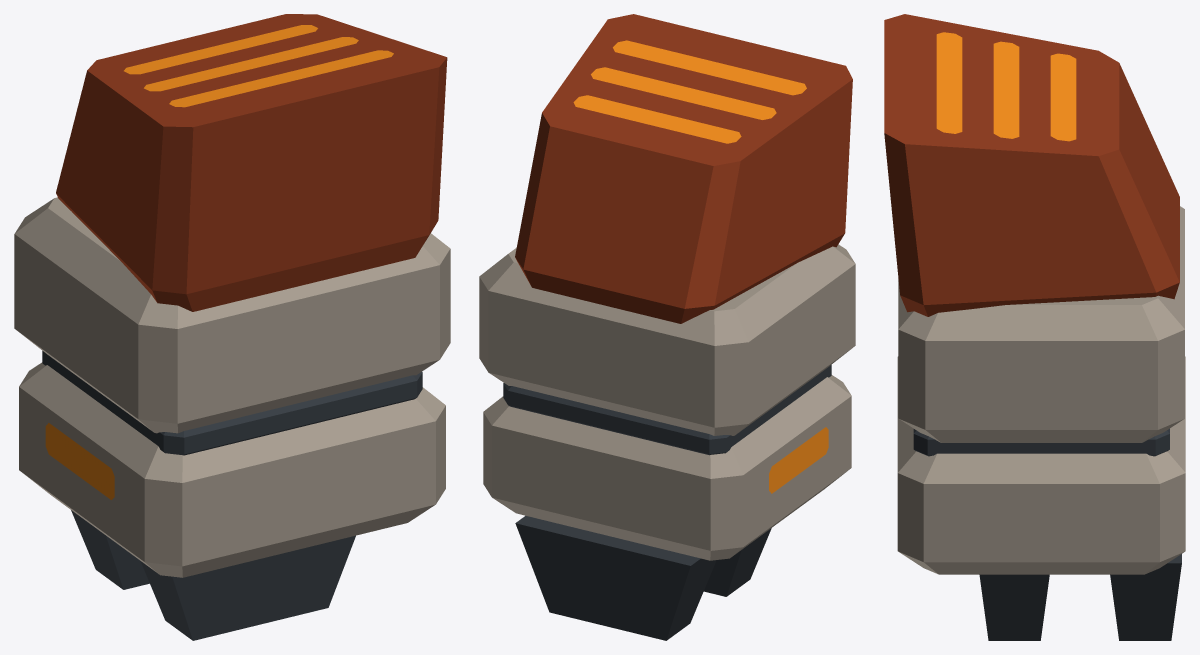
The model's file is push.obj.
The picture shows the model from 3 angles, left to right: view 1: azimuth 30°, elevation 25°; view 2: azimuth 150°, elevation 25°; view 3: azimuth 270°, elevation 25°; orthographic projection. The views are drawn at different scales.
Parts seen in each view (by area): view 1: push; view 2: push; view 3: push.
Boxes of the visible parts, <box> form: push: <box>14,14,450,640</box>; push: <box>479,14,855,640</box>; push: <box>884,14,1185,640</box>.
Bounding box in the file's own units: 0.576 × 1 × 0.513.
